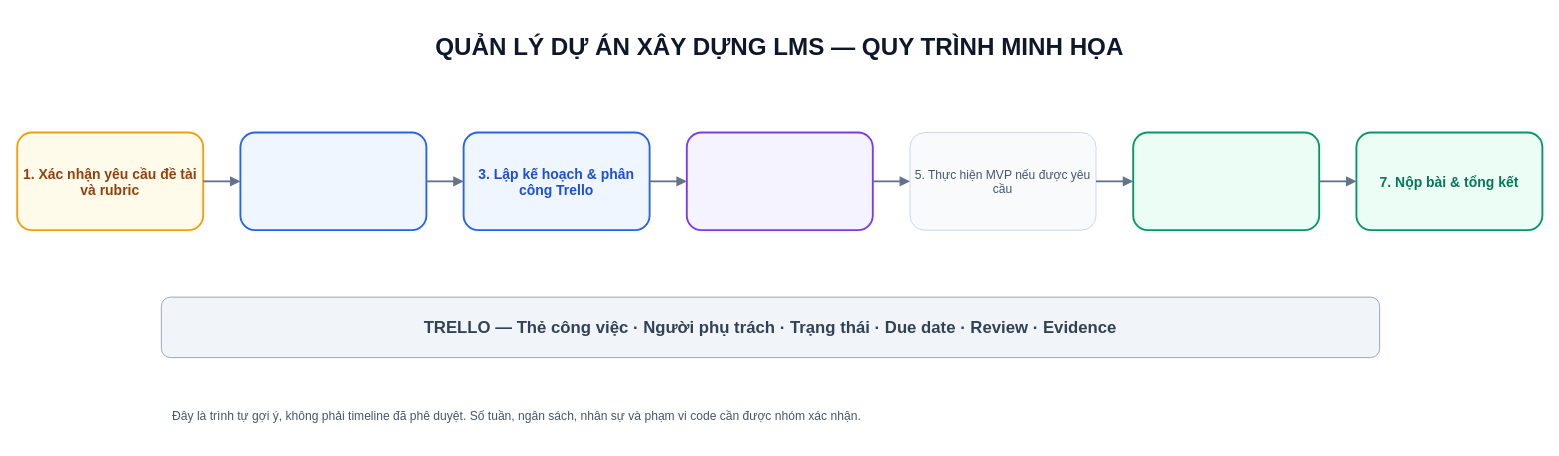
The diagram is 1559 pixels wide and 456 high, and some of its shapes have lost their labels. Each missing label, with the centre of its shape:
"2. Phân tích phạm vi & stakeholder" belongs at (x=333, y=181).
"4. Vẽ sơ đồ bằng draw.io" belongs at (x=779, y=181).
"6. Kiểm tra & chuẩn bị demo" belongs at (x=1226, y=181).
